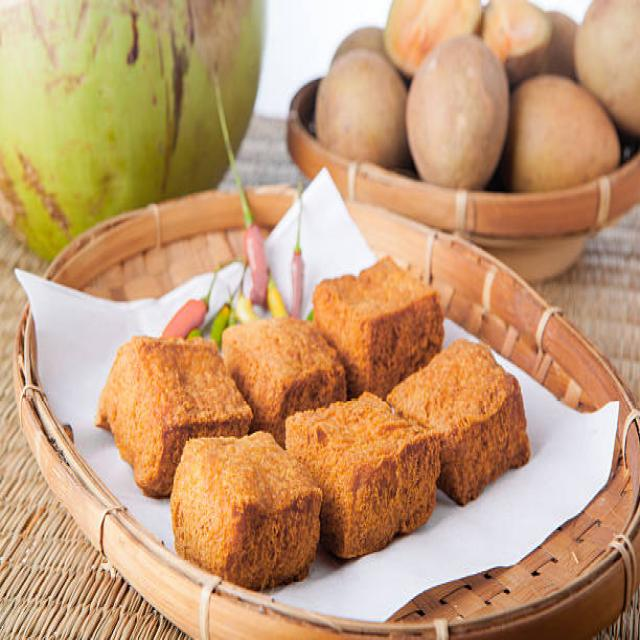tofu: (176, 432, 317, 590), (310, 392, 440, 560), (430, 340, 534, 507), (320, 258, 446, 376), (103, 334, 246, 434)
